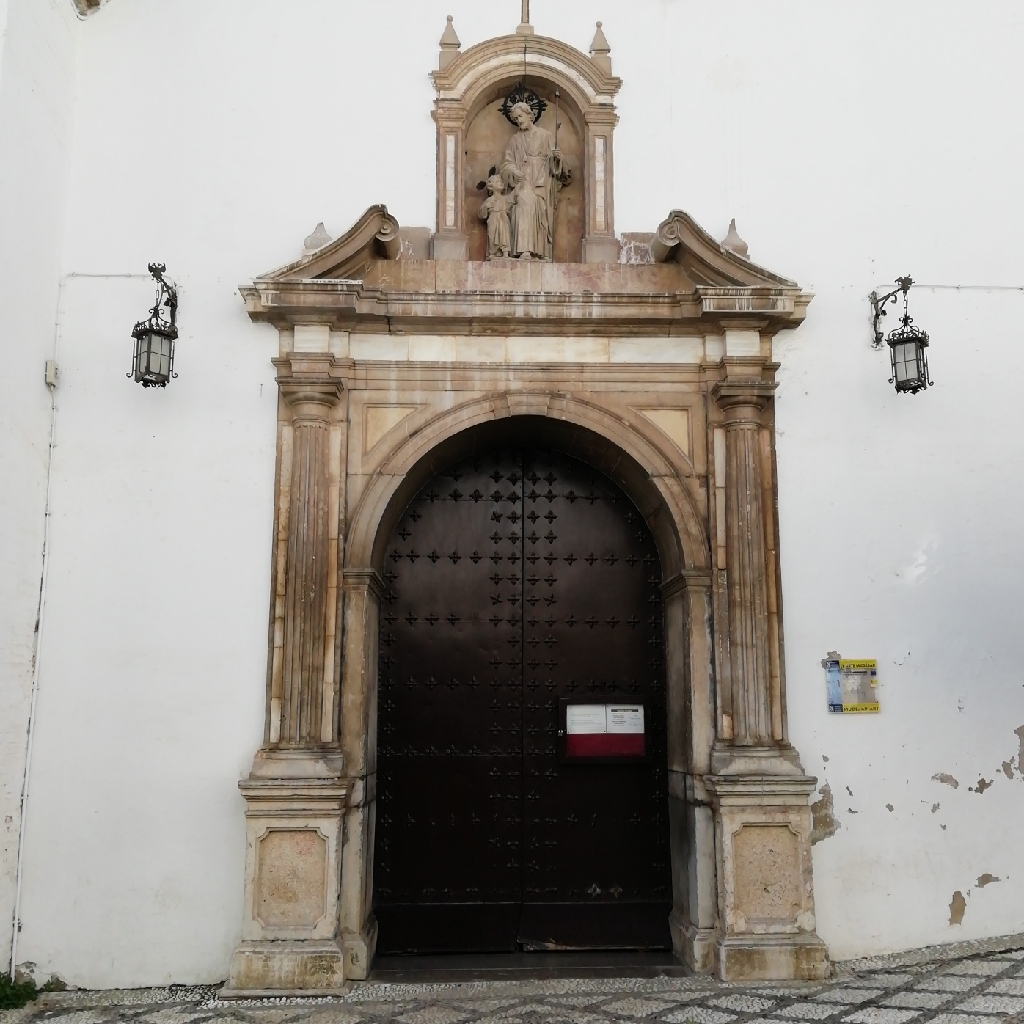arco-medio-punto: (353, 397, 703, 627), (450, 44, 603, 149)
fronton-partido: (249, 205, 785, 316)
